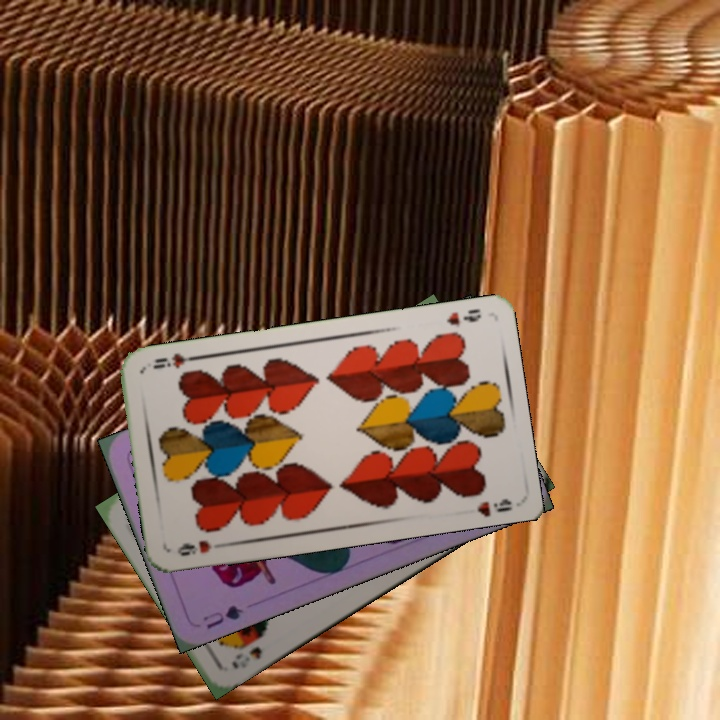GU: (199, 600, 246, 632)
H9: (173, 536, 229, 559), (442, 304, 484, 329)
SO: (227, 642, 265, 672)
